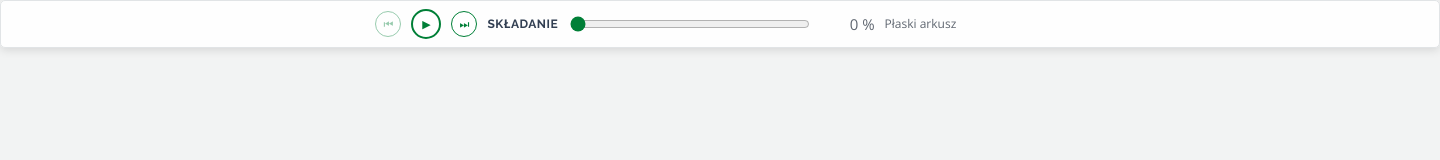
FoldSlider (timeline) › shows the timeline in percent and writes it to the preview store
The image size is (1440, 160).
Set the slider to "35": (656, 24) [570,16,810,32]
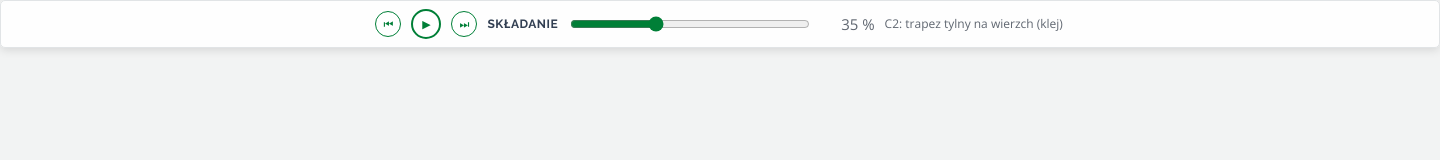
Expected: the text "35 %" is shown, [841,14,875,34]
